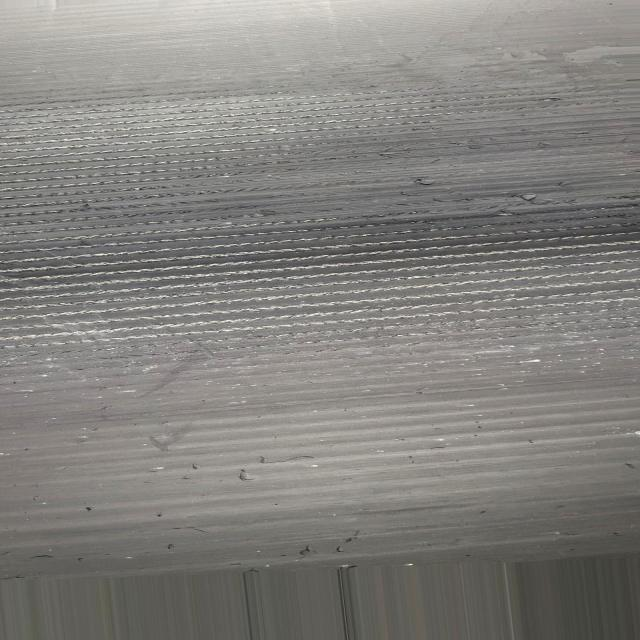impact damage: (6, 85, 634, 342)
